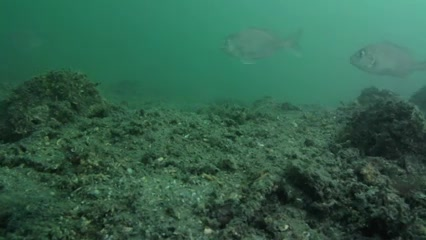smallfish: (214, 21, 306, 70), (347, 39, 426, 84)
